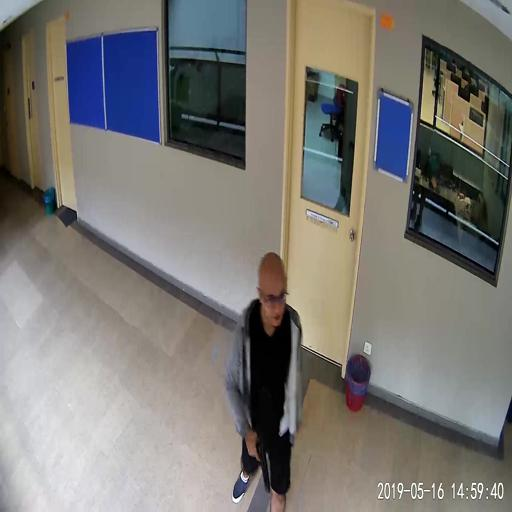pistol: (248, 438, 269, 492)
